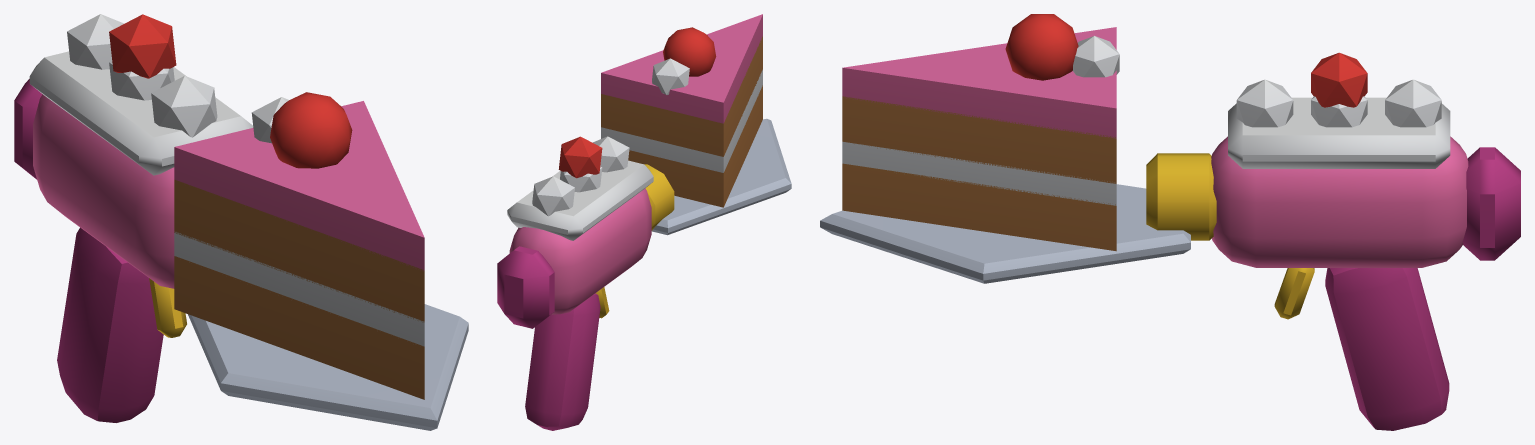
Rendered from w_g_cake.glb.
3 views of the same model, side by side, from view 1: azimuth 30°, elevation 25°; view 2: azimuth 150°, elevation 25°; view 3: azimuth 270°, elevation 25° (orthographic). The views are drawn at different scales.
Parts seen in each view (by area): view 1: body; view 2: body; view 3: body.
Part boxes in pixels (left/top/right/bottom): body: left=14, top=14, right=468, bottom=430; body: left=497, top=14, right=791, bottom=430; body: left=820, top=14, right=1520, bottom=430.
Size of the model in its own units: 0.272 by 0.4891 by 0.756.
